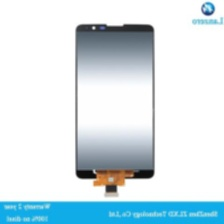phone: (73, 20, 158, 180)
